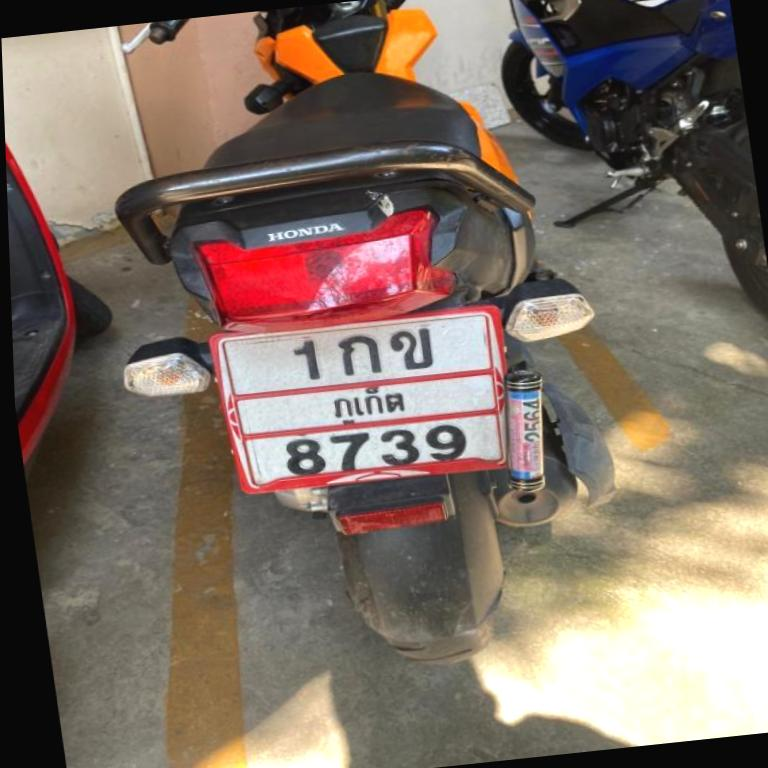license plate: (195, 294, 533, 508)
